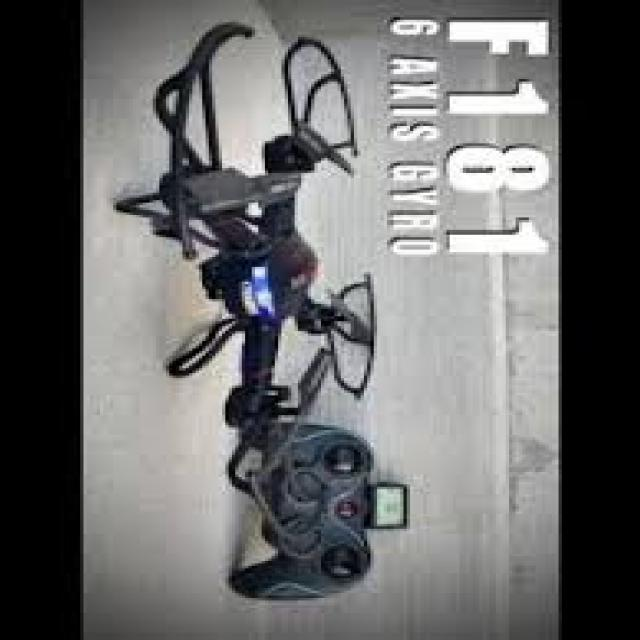drone: (128, 21, 384, 485)
